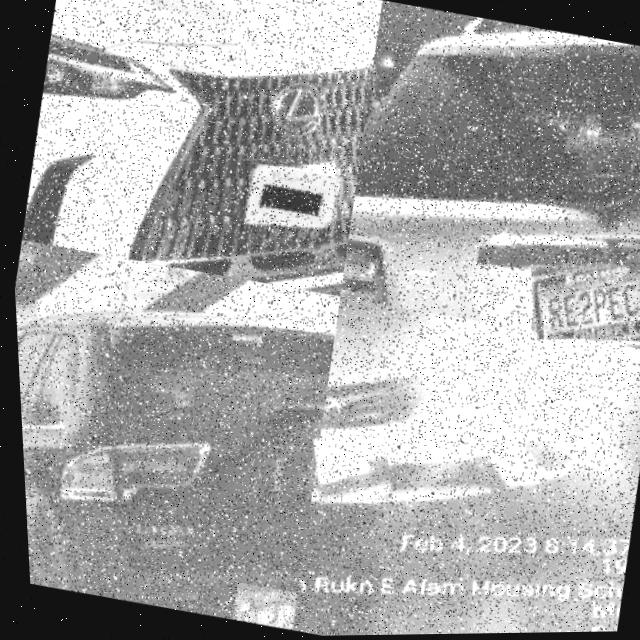LicensePlate: (298, 425, 395, 514), (528, 271, 640, 342), (238, 172, 336, 238), (228, 593, 287, 625)
